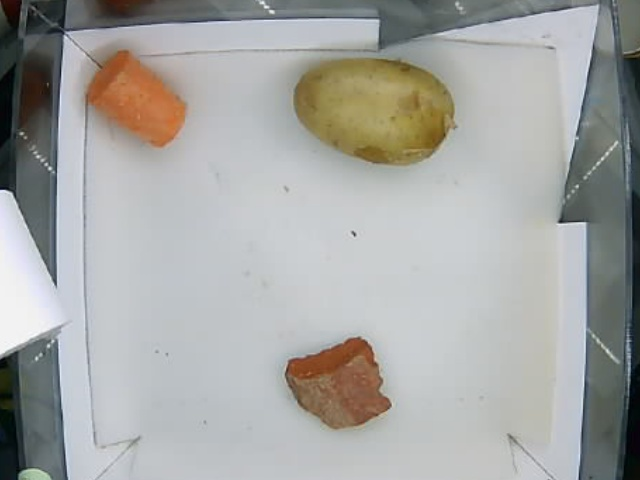Brisk: (284, 337, 394, 430)
Carrot: (88, 50, 189, 149)
Potato: (294, 60, 455, 168)
